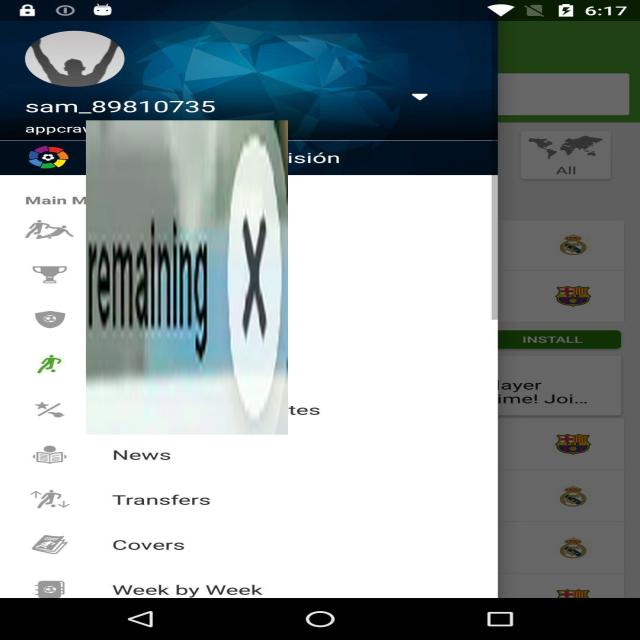misdirection: (86, 120, 288, 435)
